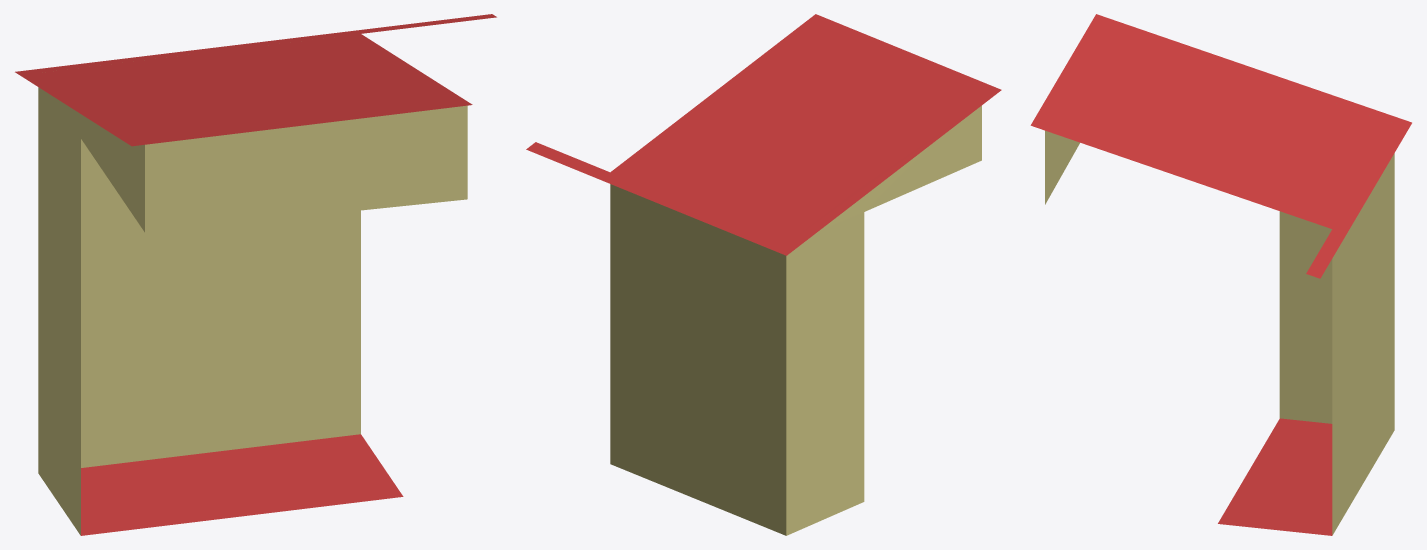
3 views of the same model, side by side, from view 1: azimuth 30°, elevation 25°; view 2: azimuth 150°, elevation 25°; view 3: azimuth 270°, elevation 25° (orthographic). The views are drawn at different scales.
Bounding box in the file's own units: 7.56 × 6.44 × 7.04.
